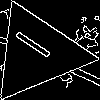I: (12, 28, 62, 67)
